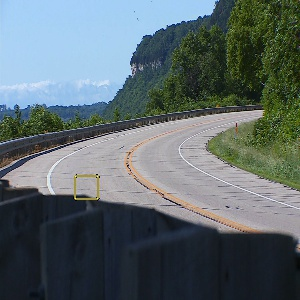square: (73, 173, 101, 200)
